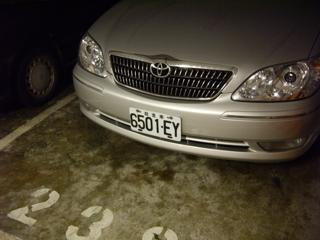plate: (126, 105, 184, 144)
